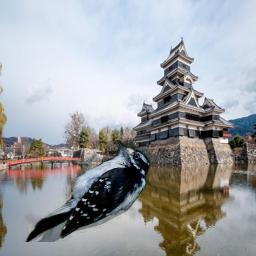Woodpecker: (23, 140, 153, 242)
